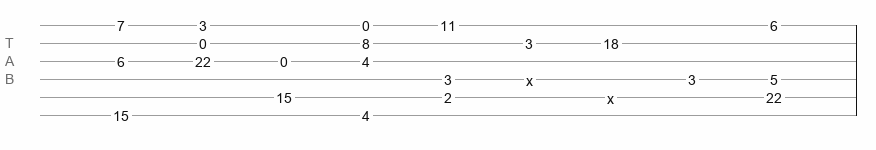0: (199, 36, 207, 46), (280, 54, 288, 64), (362, 18, 370, 28)
11: (440, 18, 456, 28)
15: (113, 108, 129, 118), (276, 90, 292, 100)
18: (603, 36, 619, 46)
2: (444, 90, 452, 100)
22: (195, 54, 211, 64), (766, 90, 782, 100)
3: (199, 18, 207, 28), (444, 72, 452, 82), (525, 36, 533, 46), (688, 72, 696, 82)
4: (362, 54, 370, 64), (362, 108, 370, 118)
5: (770, 72, 778, 82)
6: (117, 54, 125, 64), (770, 18, 778, 28)
7: (117, 18, 125, 28)
8: (362, 36, 370, 46)
x: (526, 73, 533, 81), (607, 91, 614, 99)
